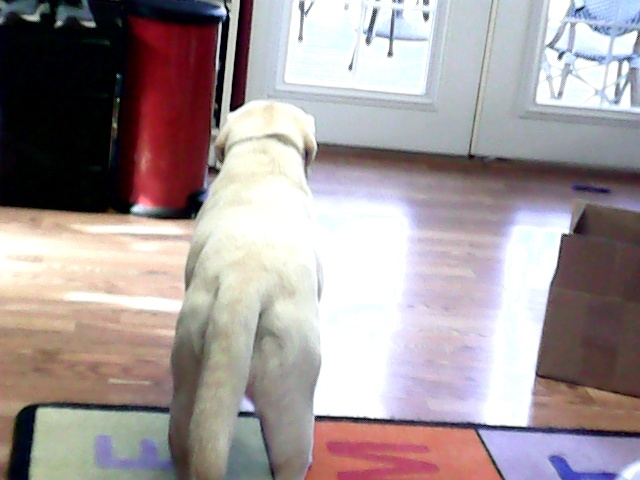dog: (167, 93, 329, 480)
